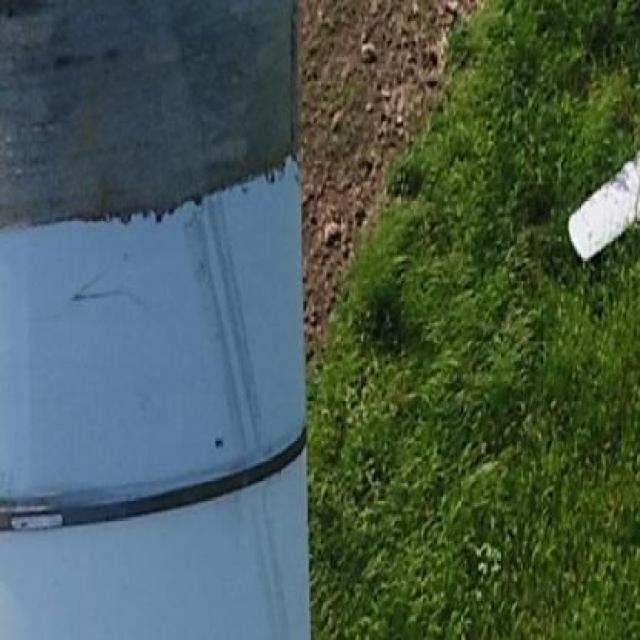Crack: (71, 269, 132, 308)
